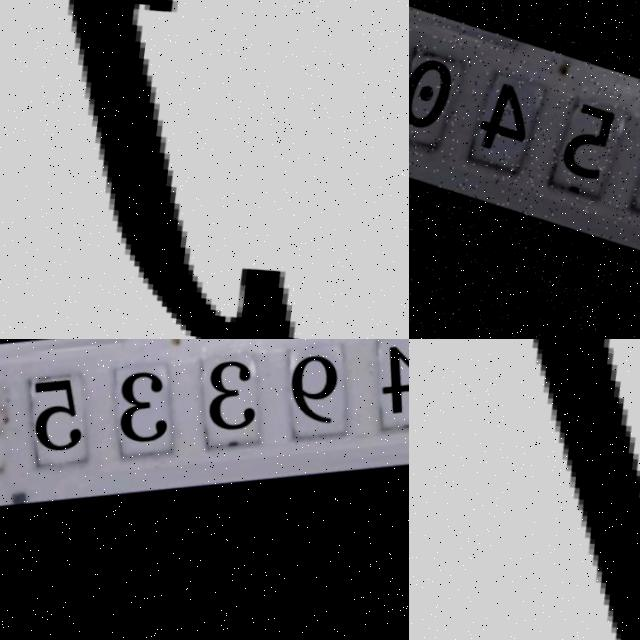0: (409, 38, 473, 153)
3: (192, 343, 275, 455), (103, 356, 184, 463)
4: (465, 68, 553, 177), (365, 339, 409, 436)
5: (549, 89, 638, 205), (18, 361, 100, 472)
9: (274, 340, 358, 450)
J: (0, 0, 376, 339)
V: (409, 339, 640, 640)
